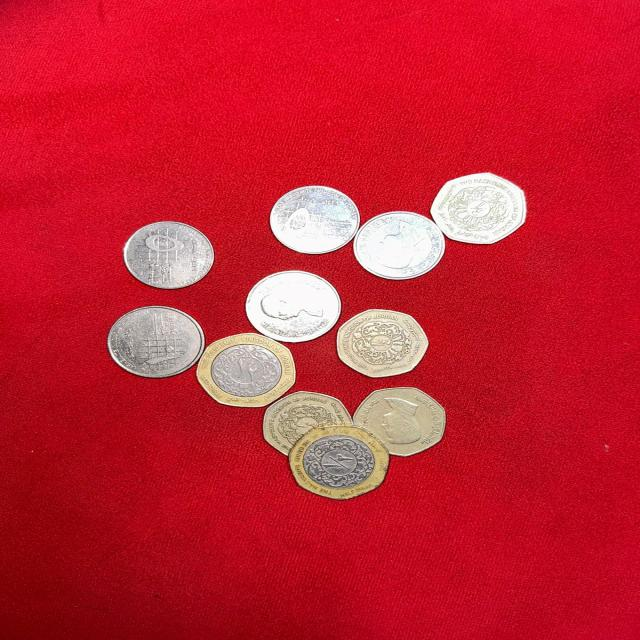10-coins: (101, 305, 208, 379), (246, 267, 342, 344)
25-coins: (430, 171, 530, 247), (354, 386, 450, 462), (337, 307, 432, 378), (263, 388, 353, 458)
5-coins: (114, 218, 219, 290), (267, 184, 364, 255), (352, 210, 447, 279)
50-coins: (288, 425, 388, 500), (200, 335, 300, 408)
